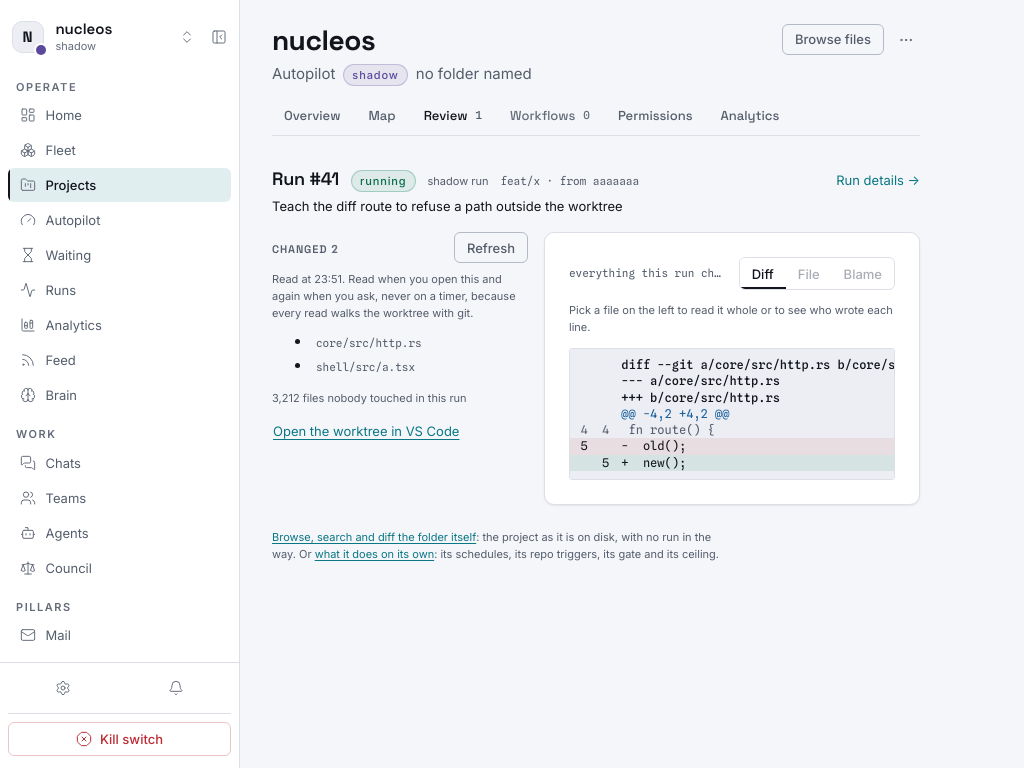
Test: the Code mode › says so when VS Code does not answer, beside the door that was pressed
The width and height of the screenshot is (1024, 768).
Click the button "Open the worktree in VS Code".
click(366, 432)  # box [272,421,460,442]
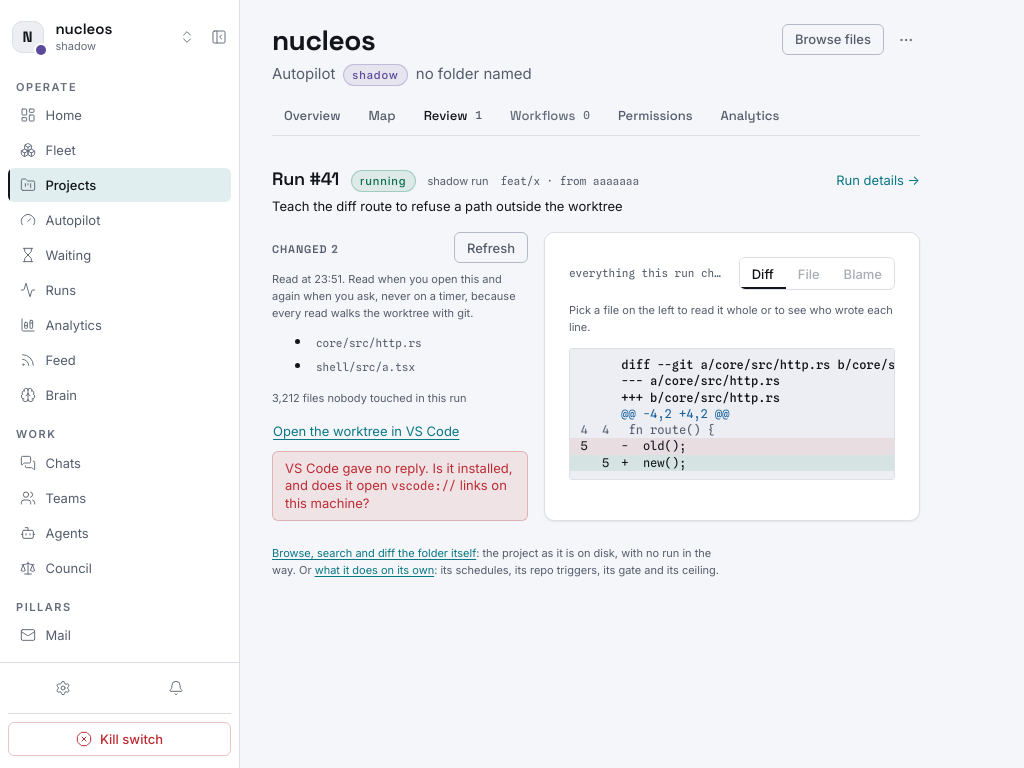
Now the text "VS Code gave no reply" is shown, box [285,460,512,493]
